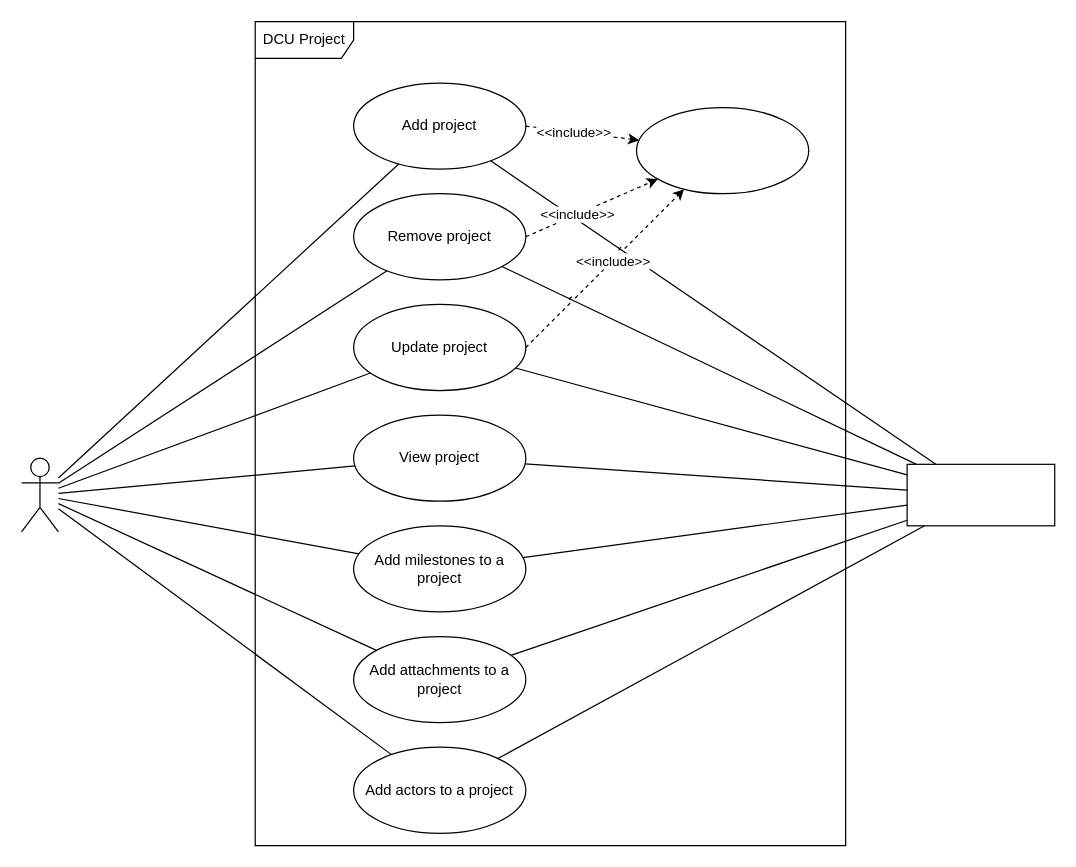
The diagram is 1076 pixels wide and 867 high, and some of its shapes have lost their labels. Each missing label, with the centre of its shape:
"Actor" belongs at (x=39, y=494).
"Respect project rules" belongs at (x=722, y=150).
"«actor» database" belongs at (x=980, y=494).
